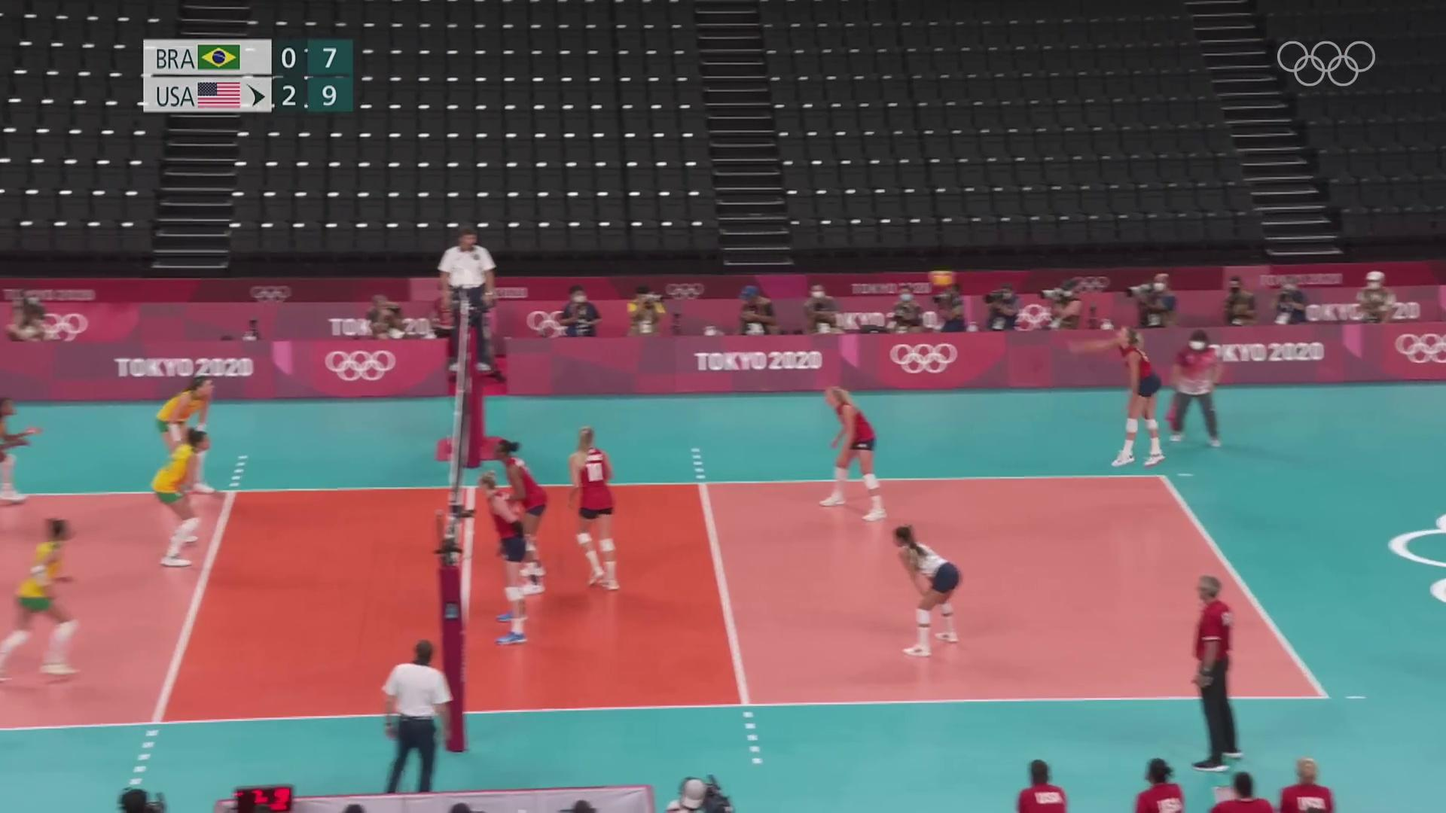player: (0, 523, 86, 685), (1095, 324, 1166, 467), (478, 472, 536, 646), (894, 526, 969, 651), (822, 385, 890, 522), (567, 427, 624, 590), (148, 428, 215, 566), (491, 439, 549, 597), (154, 371, 221, 491), (0, 394, 39, 509)
refree: (381, 639, 459, 788), (439, 234, 498, 377), (1164, 326, 1228, 447)
